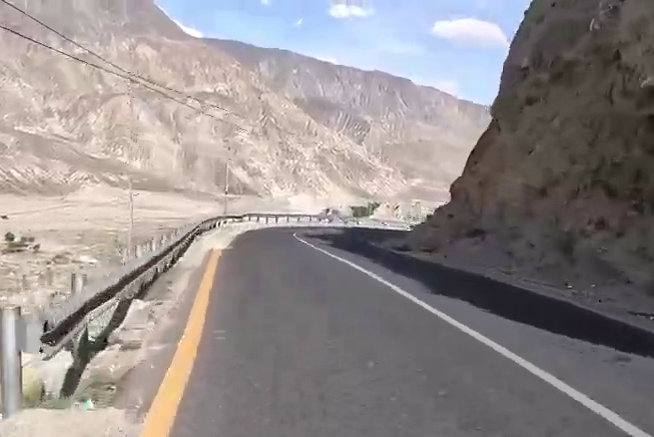stright: (240, 184, 474, 361)
